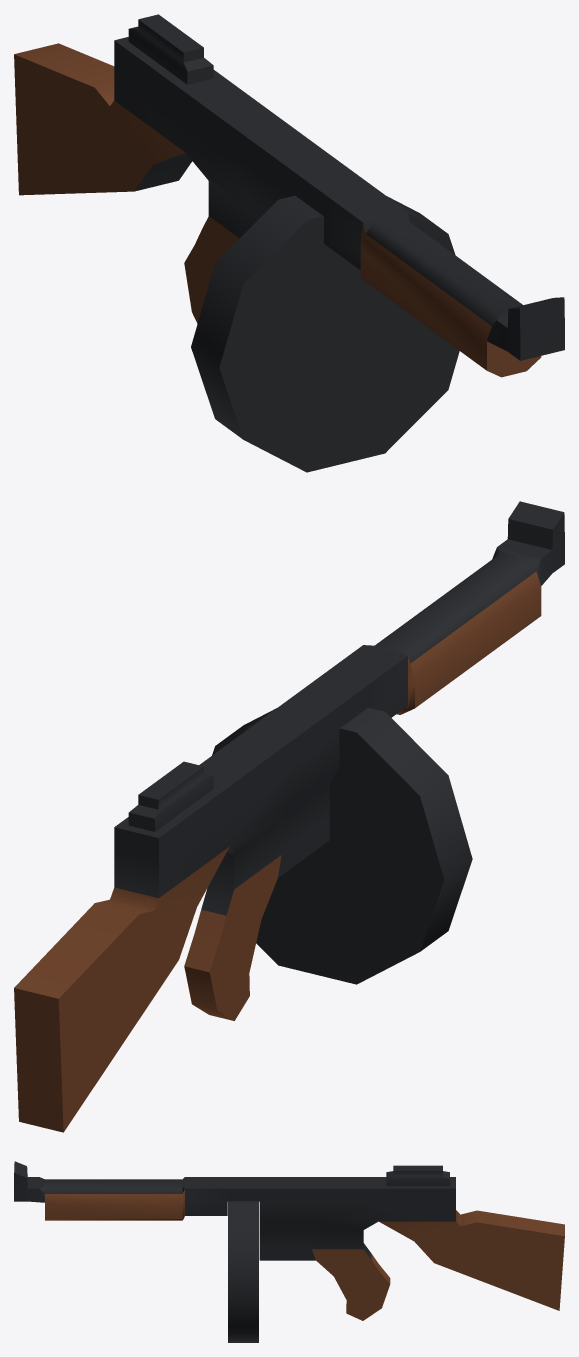
Rendered from Thompson.fbx.
3 renders of one model, top to bottom at view 1: azimuth 30°, elevation 25°; view 2: azimuth 150°, elevation 25°; view 3: azimuth 270°, elevation 25°, orthographic. The views are drawn at different scales.
Parts seen in each view (by area): view 1: Cube.001; view 2: Cube.001; view 3: Cube.001.
Part boxes in pixels (x1,y1,x2,y2): Cube.001: [14, 14, 564, 472]; Cube.001: [14, 501, 564, 1132]; Cube.001: [14, 1161, 564, 1342].
Bounding box in the file's own units: 71.12 × 81.54 × 246.
